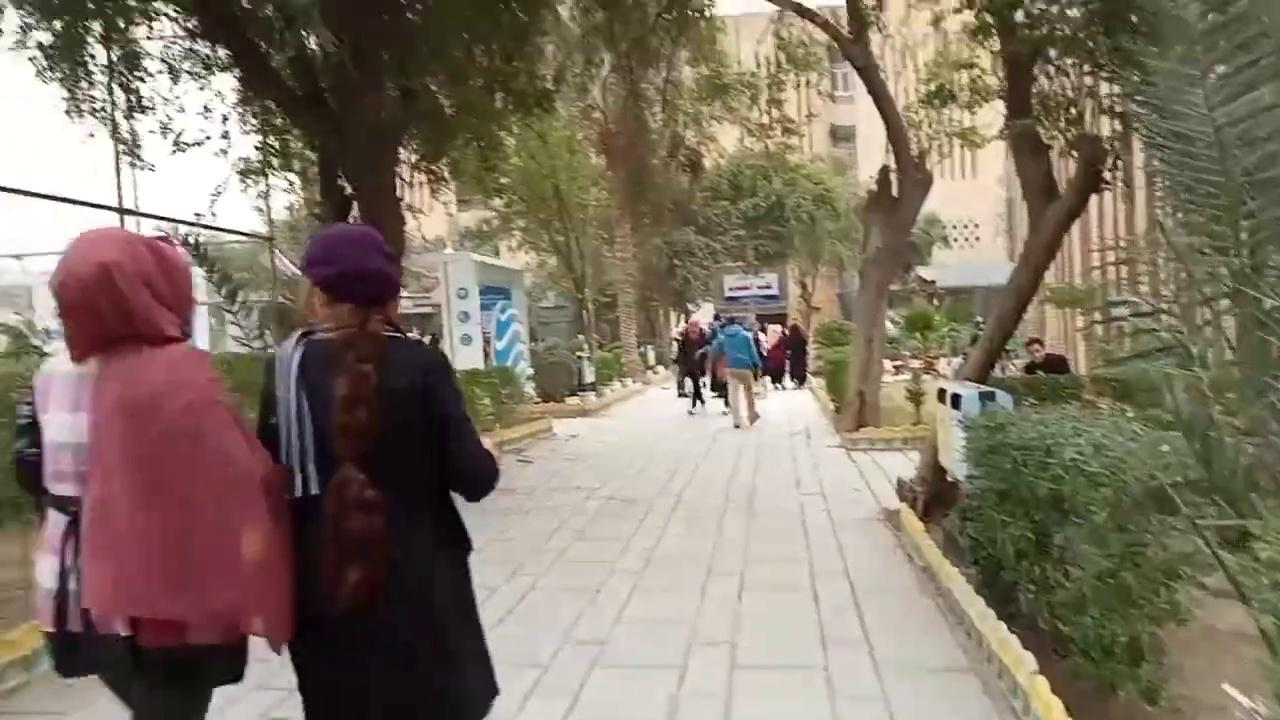person: (45, 226, 298, 718), (255, 221, 501, 718), (1023, 336, 1070, 375)
tree: (941, 0, 1279, 714), (180, 0, 560, 277), (763, 0, 955, 432), (540, 0, 730, 382), (452, 111, 622, 394), (1, 0, 192, 230), (695, 142, 856, 335), (888, 301, 963, 427), (810, 316, 856, 409)
